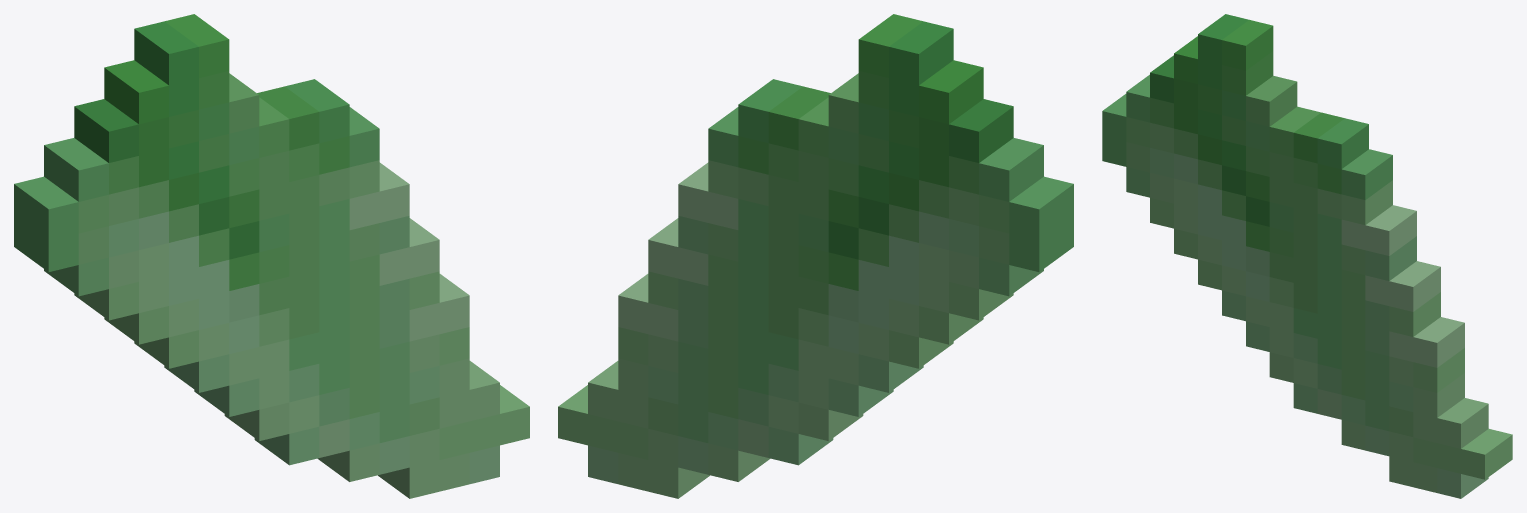
File: shoe-green.glb
3 renders of one model, left to right at view 1: azimuth 30°, elevation 25°; view 2: azimuth 150°, elevation 25°; view 3: azimuth 330°, elevation 25°, orthographic. The views are drawn at different scales.
Visible parts, largest first — view 1: prop; view 2: prop; view 3: prop.
Boxes of the visible parts, left/top/right/bottom form: prop: left=14, top=14, right=529, bottom=498; prop: left=558, top=14, right=1073, bottom=498; prop: left=1102, top=14, right=1512, bottom=498.
Bounding box in the file's own units: 16 × 16 × 2.
